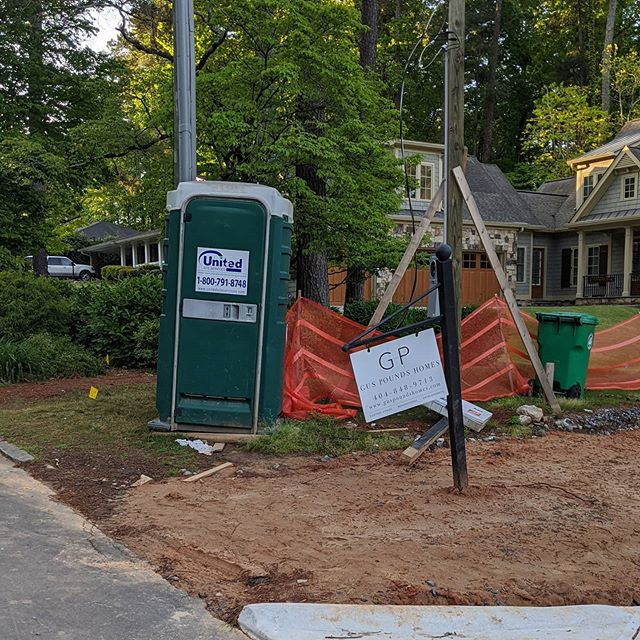building: (414, 123, 640, 289)
chemical toilet: (154, 173, 293, 430)
dirt: (146, 432, 640, 640)
sign: (341, 328, 465, 419)
trash can: (528, 300, 597, 406)
tree: (191, 1, 392, 281), (1, 1, 172, 275)
